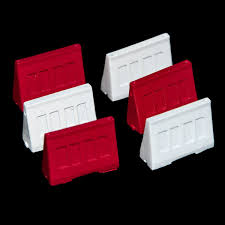barrier: (130, 61, 202, 143), (21, 84, 99, 158), (47, 116, 123, 187), (103, 31, 174, 102), (12, 44, 86, 111), (140, 98, 214, 165)
